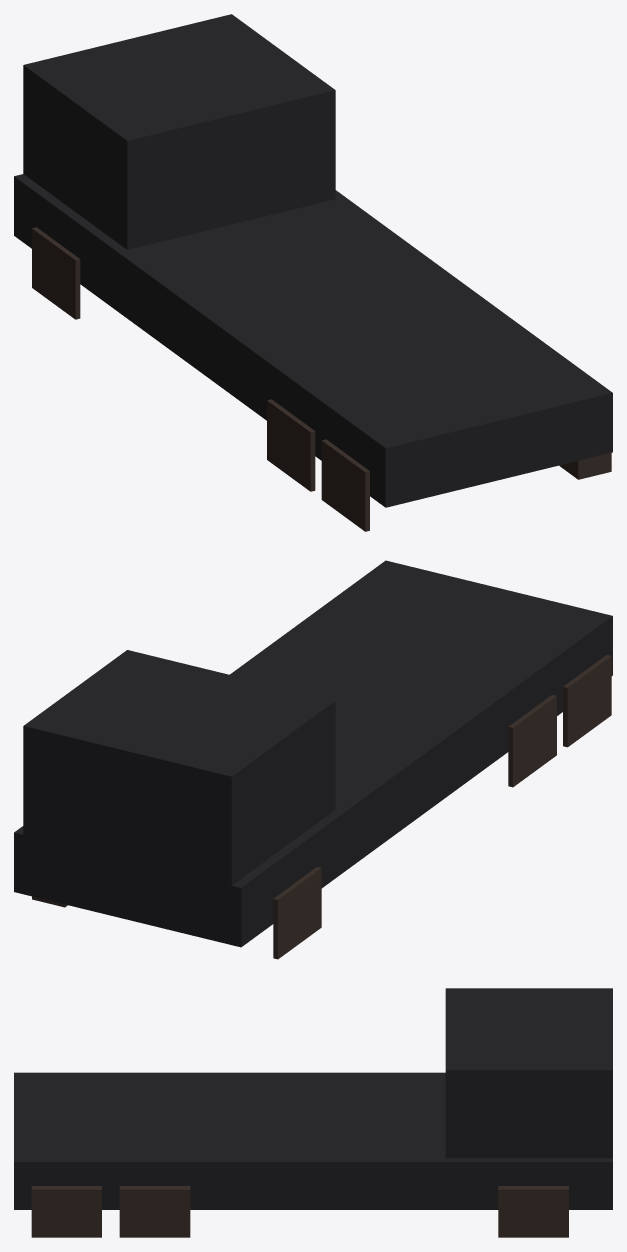
Rendered from army_truck_burnt_lod1.glb.
3 renders of one model, top to bottom at view 1: azimuth 30°, elevation 25°; view 2: azimuth 150°, elevation 25°; view 3: azimuth 270°, elevation 25°, orthographic. The views are drawn at different scales.
Parts seen in each view (by area): view 1: army_truck_burnt_lod1; view 2: army_truck_burnt_lod1; view 3: army_truck_burnt_lod1.
Part boxes in pixels (bbox=[...]): army_truck_burnt_lod1: bbox=[14, 14, 612, 531]; army_truck_burnt_lod1: bbox=[14, 560, 612, 959]; army_truck_burnt_lod1: bbox=[14, 988, 612, 1237].
Size of what is drawn, in the model's own units: 2.6 by 2 by 6.8.
2 materials, 2 textured.
